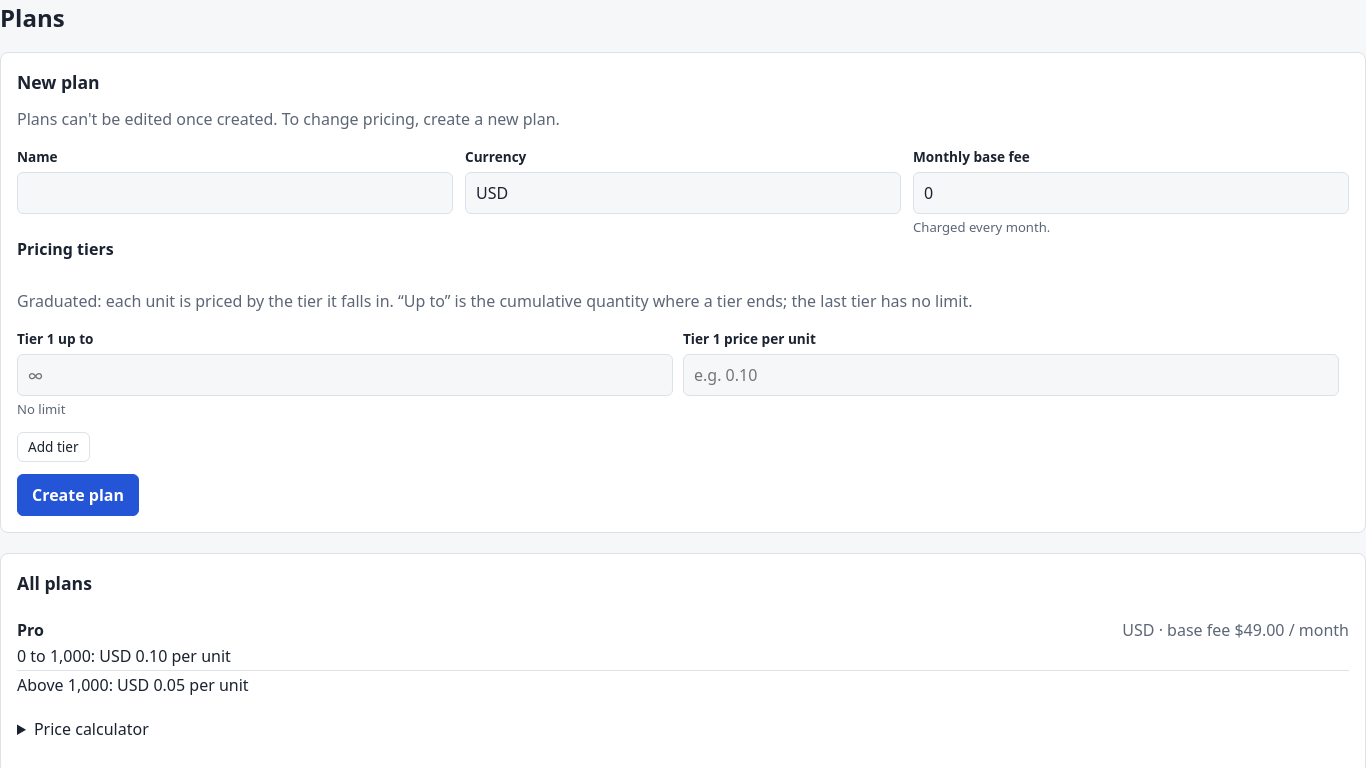
Test case: PlansPage › lists plans with a readable tier summary and quotes a price
expect the list item "0 to 1,000: USD 0.10 per unit" is shown: met, box [17,642,1349,671]
expect the list item "Above 1,000: USD 0.05 per unit" is shown: met, box [17,674,249,696]
Step 1. Click the heading "Price calculator" → (91, 729), box [34,718,149,740]
(page scrolled)
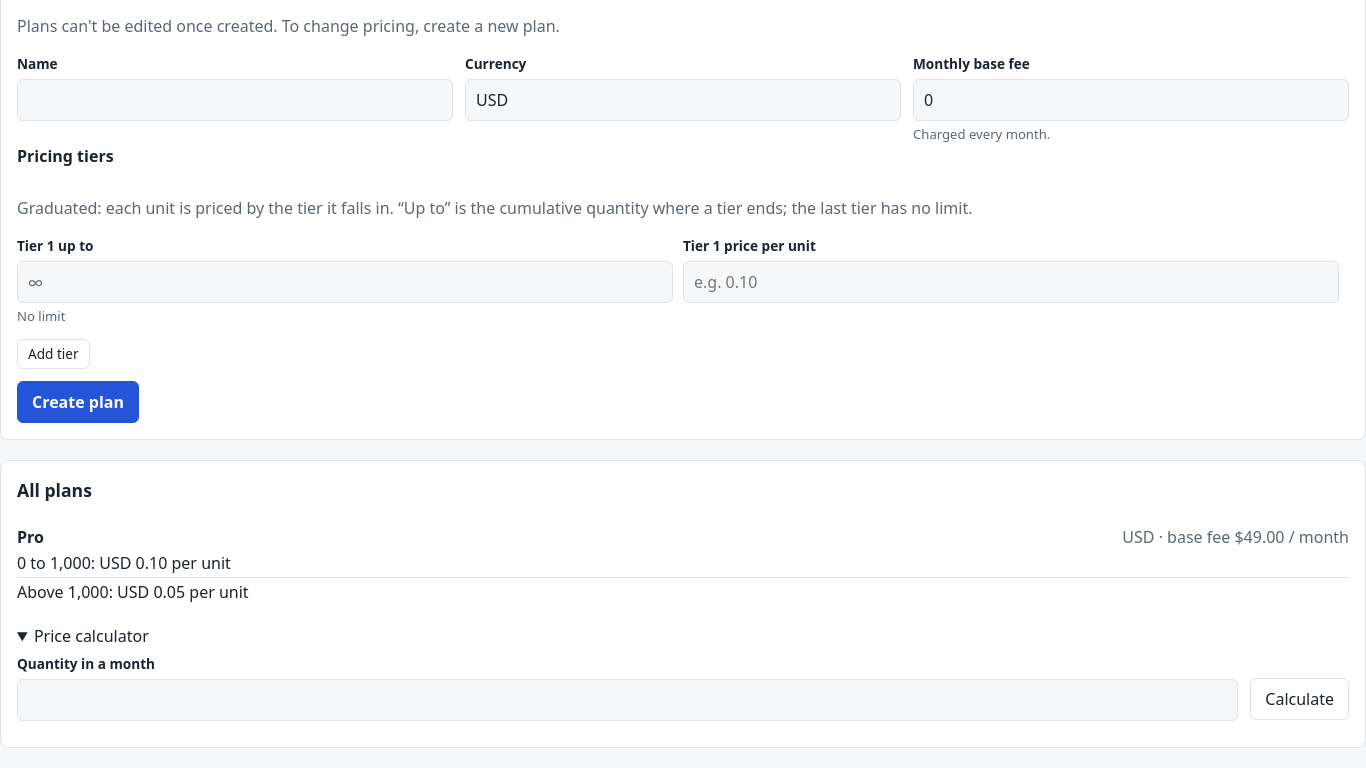
Step 2. Type "1500" into the field labelled "Quantity in a month" → (628, 700), box [17,679,1238,721]
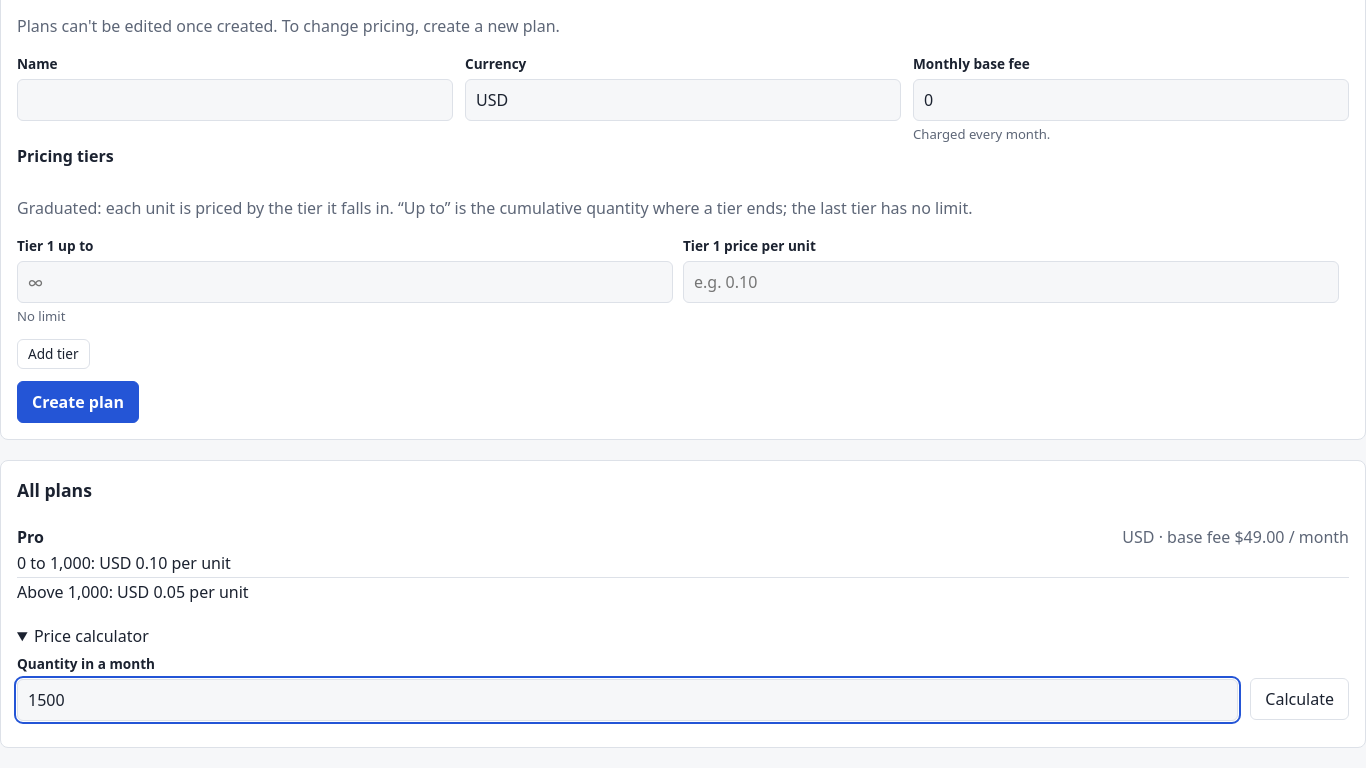
Step 3. Click the button "Calculate" → (1300, 699), box [1250,678,1349,720]
(page scrolled)
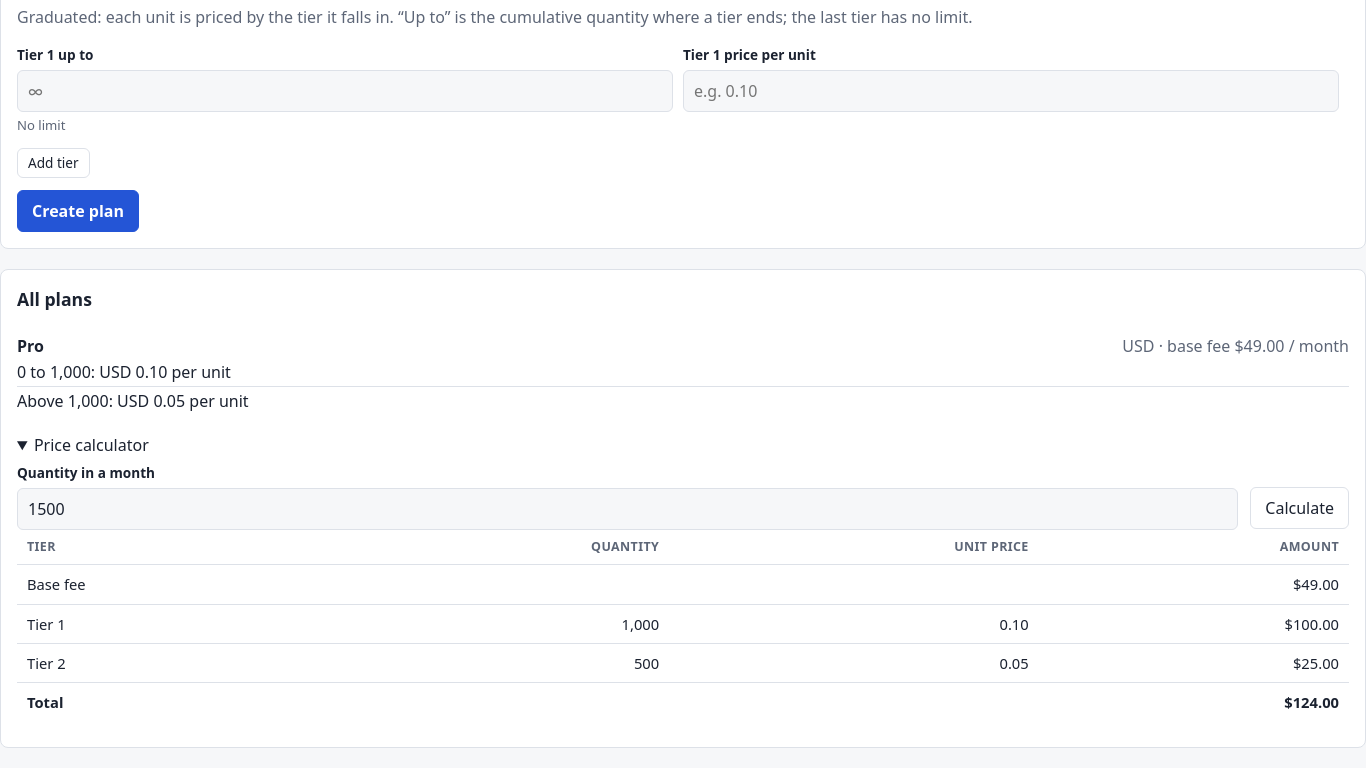
expect the text "$124.00" is shown: met, box [1039,682,1349,721]
